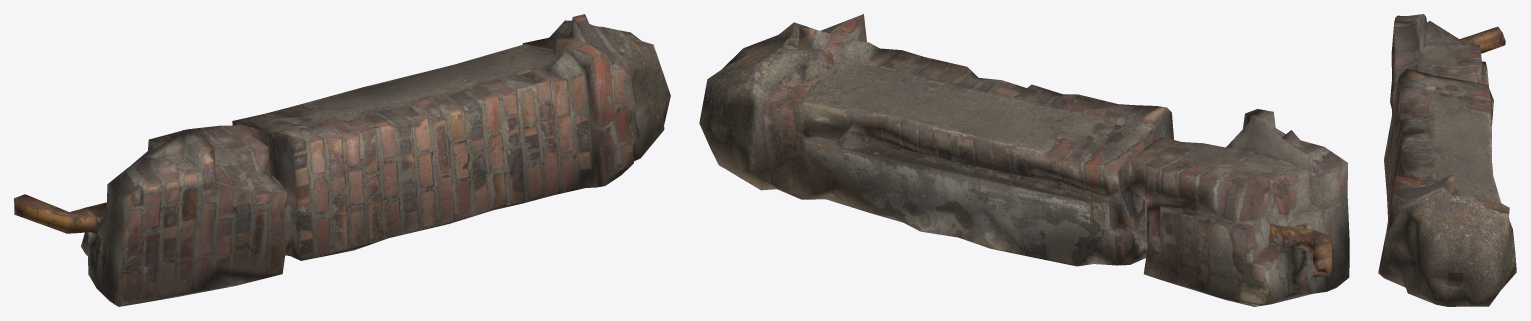
File: PX_Brick_Ruins_21_LOD5.fbx
The picture shows the model from 3 angles, left to right: view 1: azimuth 30°, elevation 25°; view 2: azimuth 150°, elevation 25°; view 3: azimuth 270°, elevation 25°; orthographic projection. The views are drawn at different scales.
Parts seen in each view (by area): view 1: PX_Brick_Ruins_21_LOD5; view 2: PX_Brick_Ruins_21_LOD5; view 3: PX_Brick_Ruins_21_LOD5.
Boxes of the visible parts, left/top/right/bottom form: PX_Brick_Ruins_21_LOD5: left=14, top=14, right=670, bottom=306; PX_Brick_Ruins_21_LOD5: left=699, top=14, right=1349, bottom=306; PX_Brick_Ruins_21_LOD5: left=1378, top=14, right=1516, bottom=306.
Size of the model in its own units: 259 by 61.97 by 63.34.
